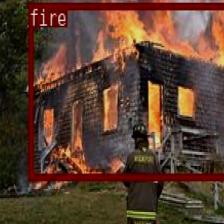fire: (27, 2, 224, 178)
